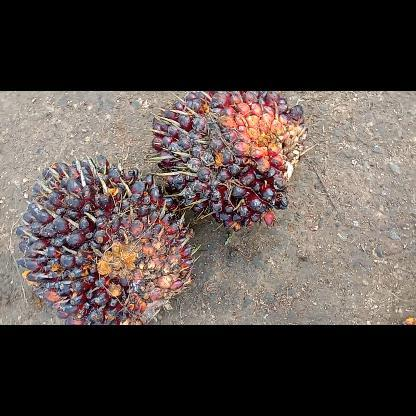Kurang masak: (13, 150, 196, 324), (148, 91, 312, 235)
